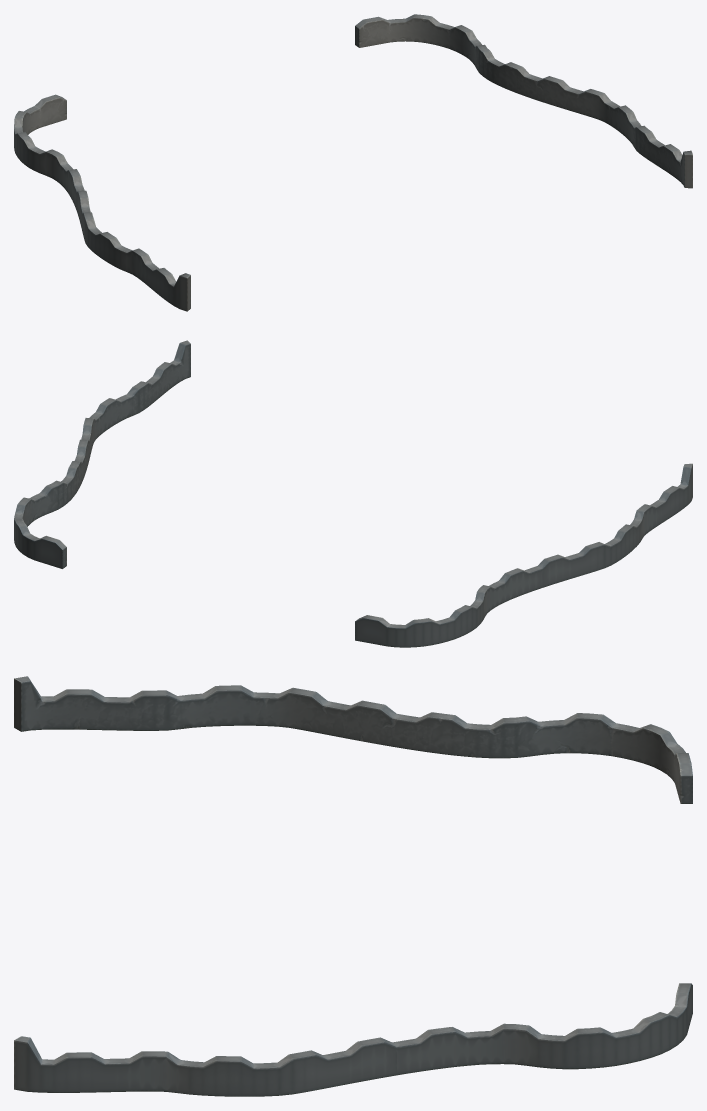
Rendered from SpawnWall1fbx.fbx.
The picture shows the model from 3 angles, top to bottom: view 1: azimuth 30°, elevation 25°; view 2: azimuth 150°, elevation 25°; view 3: azimuth 270°, elevation 25°; orthographic projection. The views are drawn at different scales.
Parts seen in each view (by area): view 1: Wall_Spawn_LOW; view 2: Wall_Spawn_LOW; view 3: Wall_Spawn_LOW.
Part boxes in pixels (x1=…): Wall_Spawn_LOW: x1=14, y1=14, x2=692, y2=311; Wall_Spawn_LOW: x1=14, y1=340, x2=692, y2=647; Wall_Spawn_LOW: x1=14, y1=676, x2=692, y2=1096.
Size of the model in its own units: 35.89 by 2.19 by 27.37.
1 material, 1 textured.
